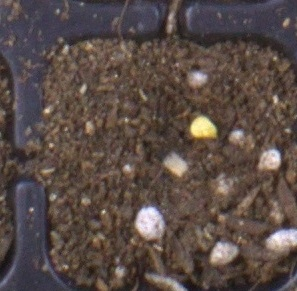chilli seed: (189, 115, 218, 139)
